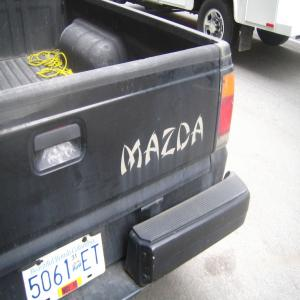Vehicle-registration-plate: (27, 239, 106, 293)
